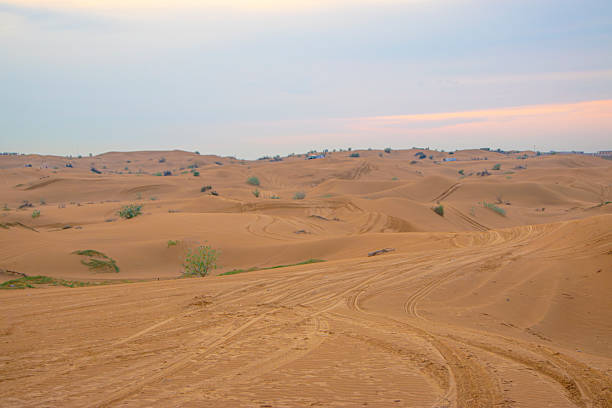vehicle_track: (2, 223, 611, 407), (112, 306, 329, 403), (90, 306, 282, 406), (88, 309, 278, 407), (349, 293, 506, 406), (398, 248, 510, 405), (162, 309, 329, 398), (430, 326, 611, 407), (362, 311, 508, 407), (447, 333, 611, 407), (326, 311, 448, 405), (212, 316, 329, 382), (403, 248, 511, 318), (212, 268, 332, 303), (213, 271, 337, 304), (113, 316, 175, 345), (446, 204, 489, 230), (245, 214, 285, 240), (358, 212, 384, 233), (431, 183, 460, 201)
